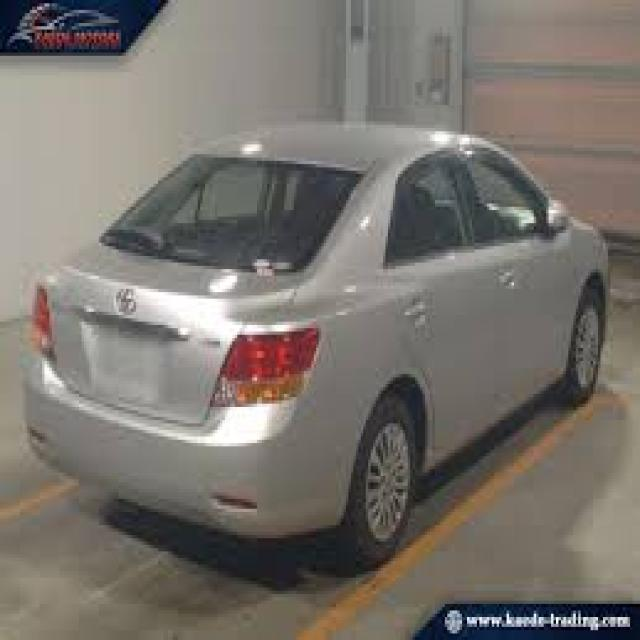silver: (24, 121, 612, 570)
